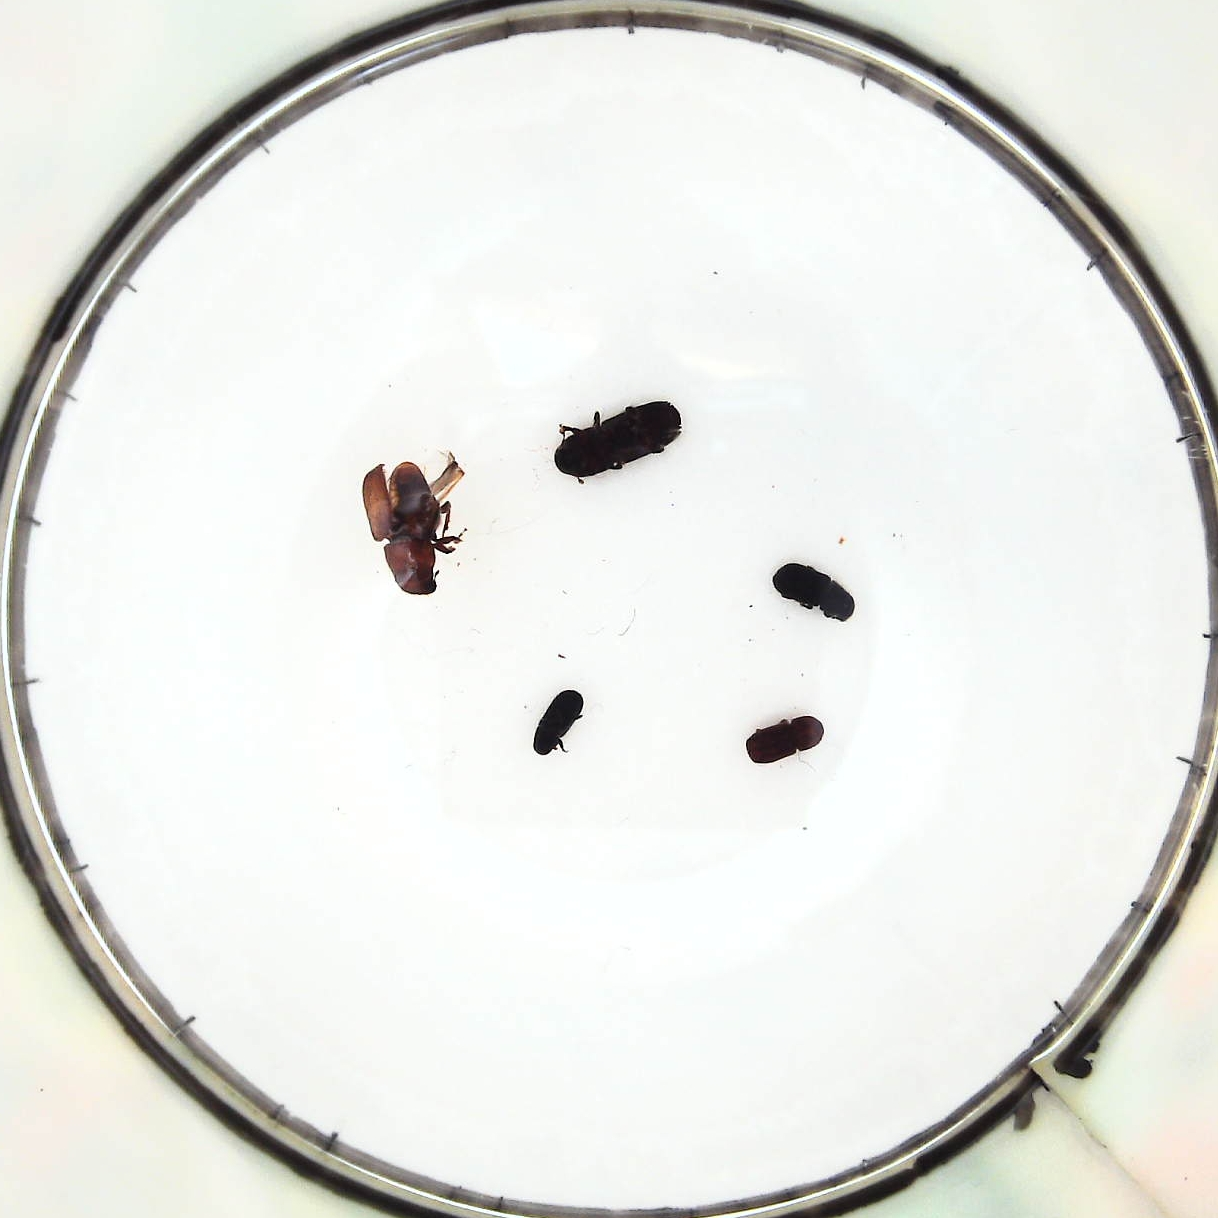Boerner: (555, 396, 681, 476)
Leconte: (358, 452, 458, 596)
Linnaeus: (736, 708, 826, 766)
armandi: (775, 557, 860, 625)
coleoptera: (531, 693, 587, 754)
